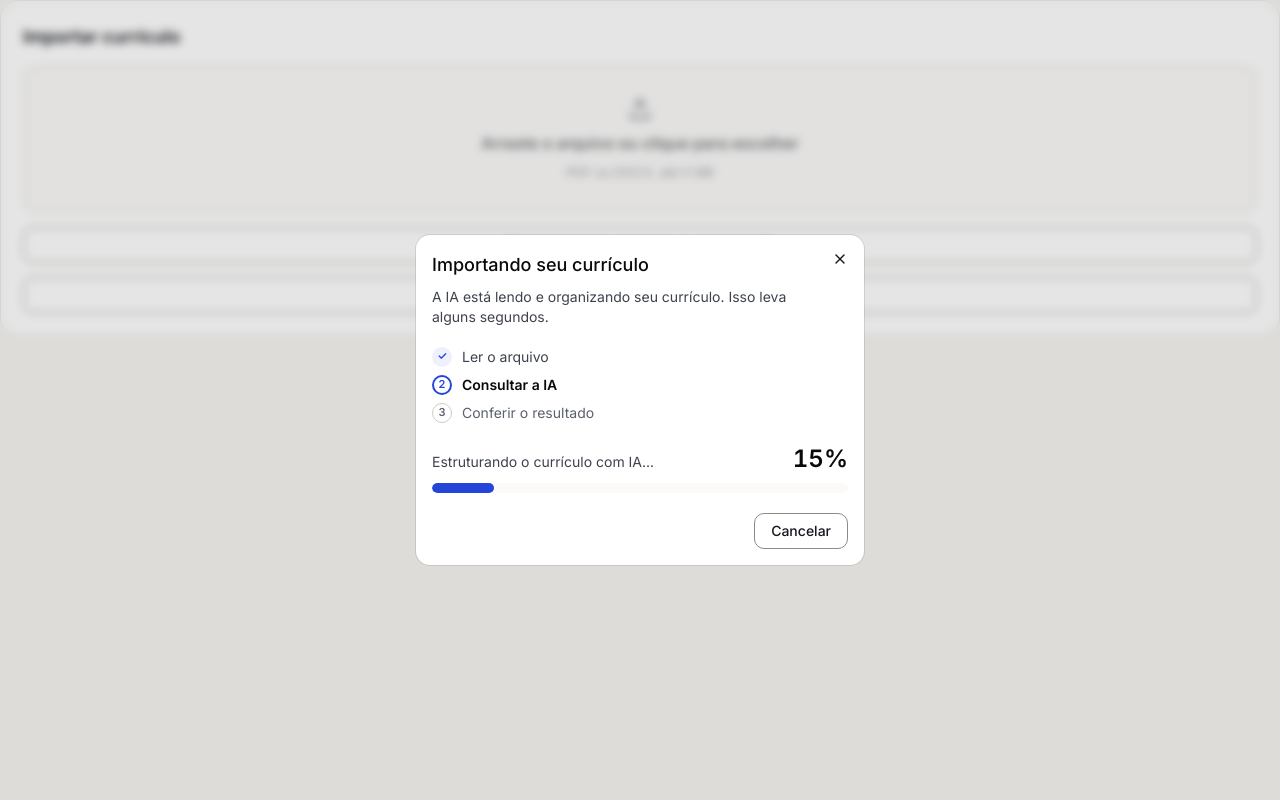
Scenario: ImportPanel: Cancelar › durante a análise: importProfile resolve depois do abort e nada é importado
Earlier steps of the test are not shown.
Expected: the text "Estruturando o currículo com IA..." is shown, [432, 452, 654, 472]
Click the button "Cancelar" at (801, 531), box [754, 513, 848, 549]
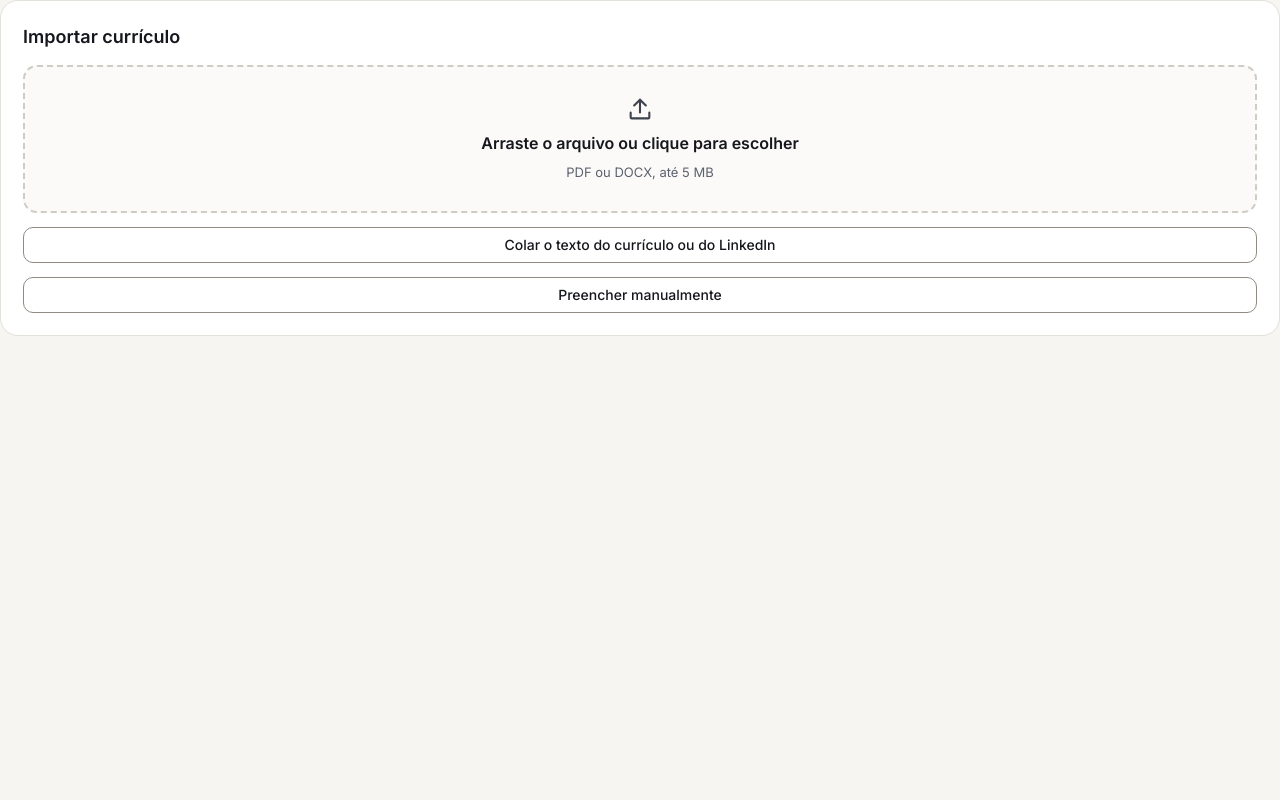
Expected: the file field named "Arquivo do currículo (PDF ou DOCX)" is enabled, [23, 65, 1257, 212]
Expected: the text "Estruturando o currículo com IA..." is gone
